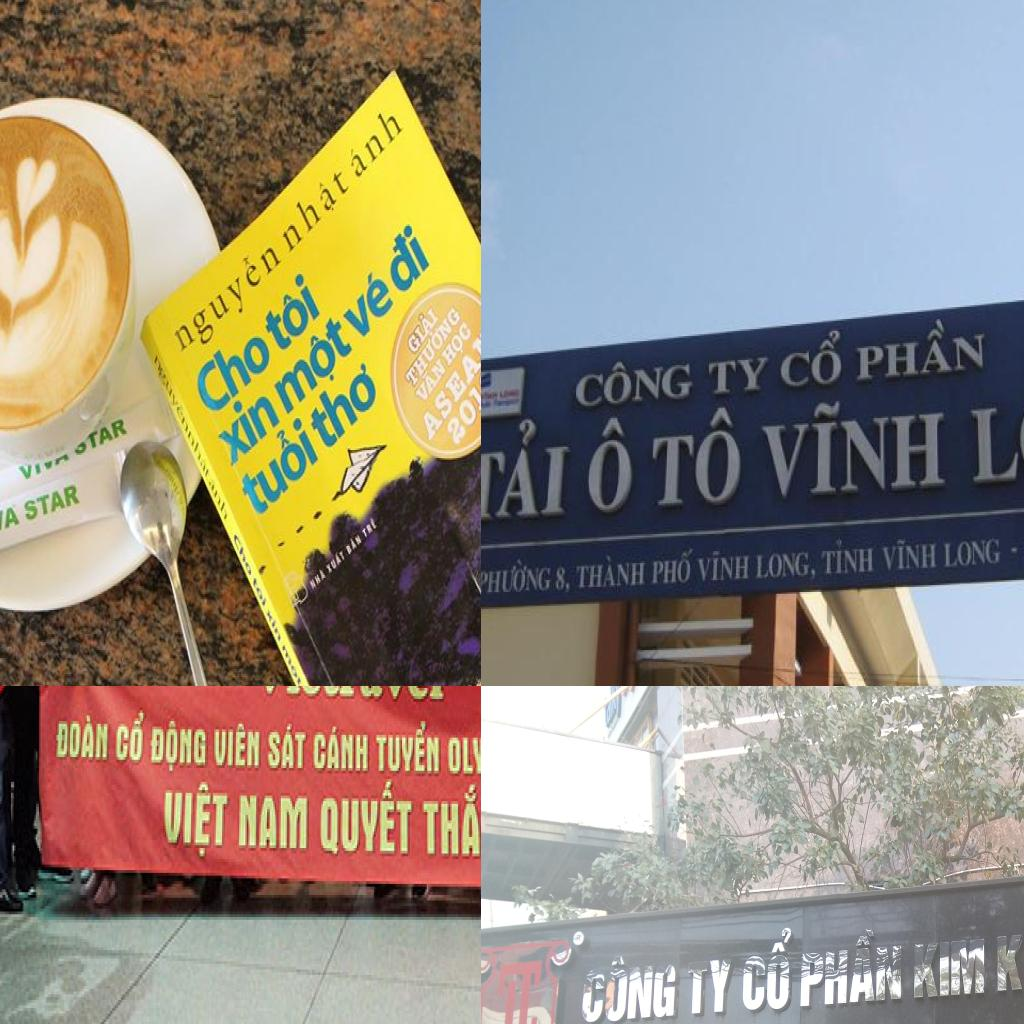text: (754, 394, 948, 503), (164, 231, 290, 365), (269, 306, 366, 420), (649, 404, 748, 514), (234, 408, 323, 526), (481, 416, 574, 525), (187, 314, 278, 423), (854, 317, 988, 386), (271, 157, 359, 260), (306, 351, 386, 461), (800, 926, 903, 1008), (416, 321, 481, 448), (317, 782, 414, 864), (210, 375, 288, 471), (571, 355, 695, 414), (580, 951, 678, 1024), (257, 262, 327, 364), (160, 776, 231, 868), (372, 213, 438, 308), (342, 96, 408, 186), (967, 385, 1024, 487), (402, 303, 466, 392), (233, 790, 312, 862), (336, 260, 398, 350), (419, 784, 481, 870), (585, 414, 635, 518), (913, 936, 986, 1000), (778, 328, 848, 392), (374, 721, 444, 785), (742, 925, 792, 1013), (149, 710, 210, 776), (152, 349, 193, 437), (491, 958, 544, 1024), (254, 686, 448, 704), (443, 362, 481, 453), (314, 724, 372, 782), (53, 710, 110, 768), (574, 552, 648, 594), (708, 355, 772, 401), (481, 557, 553, 597), (687, 957, 734, 1016), (24, 477, 81, 525), (210, 724, 262, 773), (995, 913, 1024, 992), (402, 300, 442, 357), (115, 707, 152, 768), (820, 538, 876, 578), (944, 536, 1004, 572), (881, 539, 938, 575), (755, 549, 817, 582), (412, 352, 449, 407), (439, 317, 475, 373), (696, 550, 752, 586), (267, 726, 309, 774), (445, 732, 481, 784), (652, 548, 696, 588), (206, 474, 233, 525), (187, 428, 212, 482), (279, 642, 304, 686), (232, 532, 254, 580), (0, 499, 22, 544), (265, 605, 284, 645), (251, 574, 270, 612), (324, 546, 346, 576), (618, 686, 647, 706), (606, 686, 620, 726), (345, 530, 364, 559), (308, 567, 328, 594), (554, 566, 571, 596), (361, 514, 379, 541), (575, 934, 583, 944)
